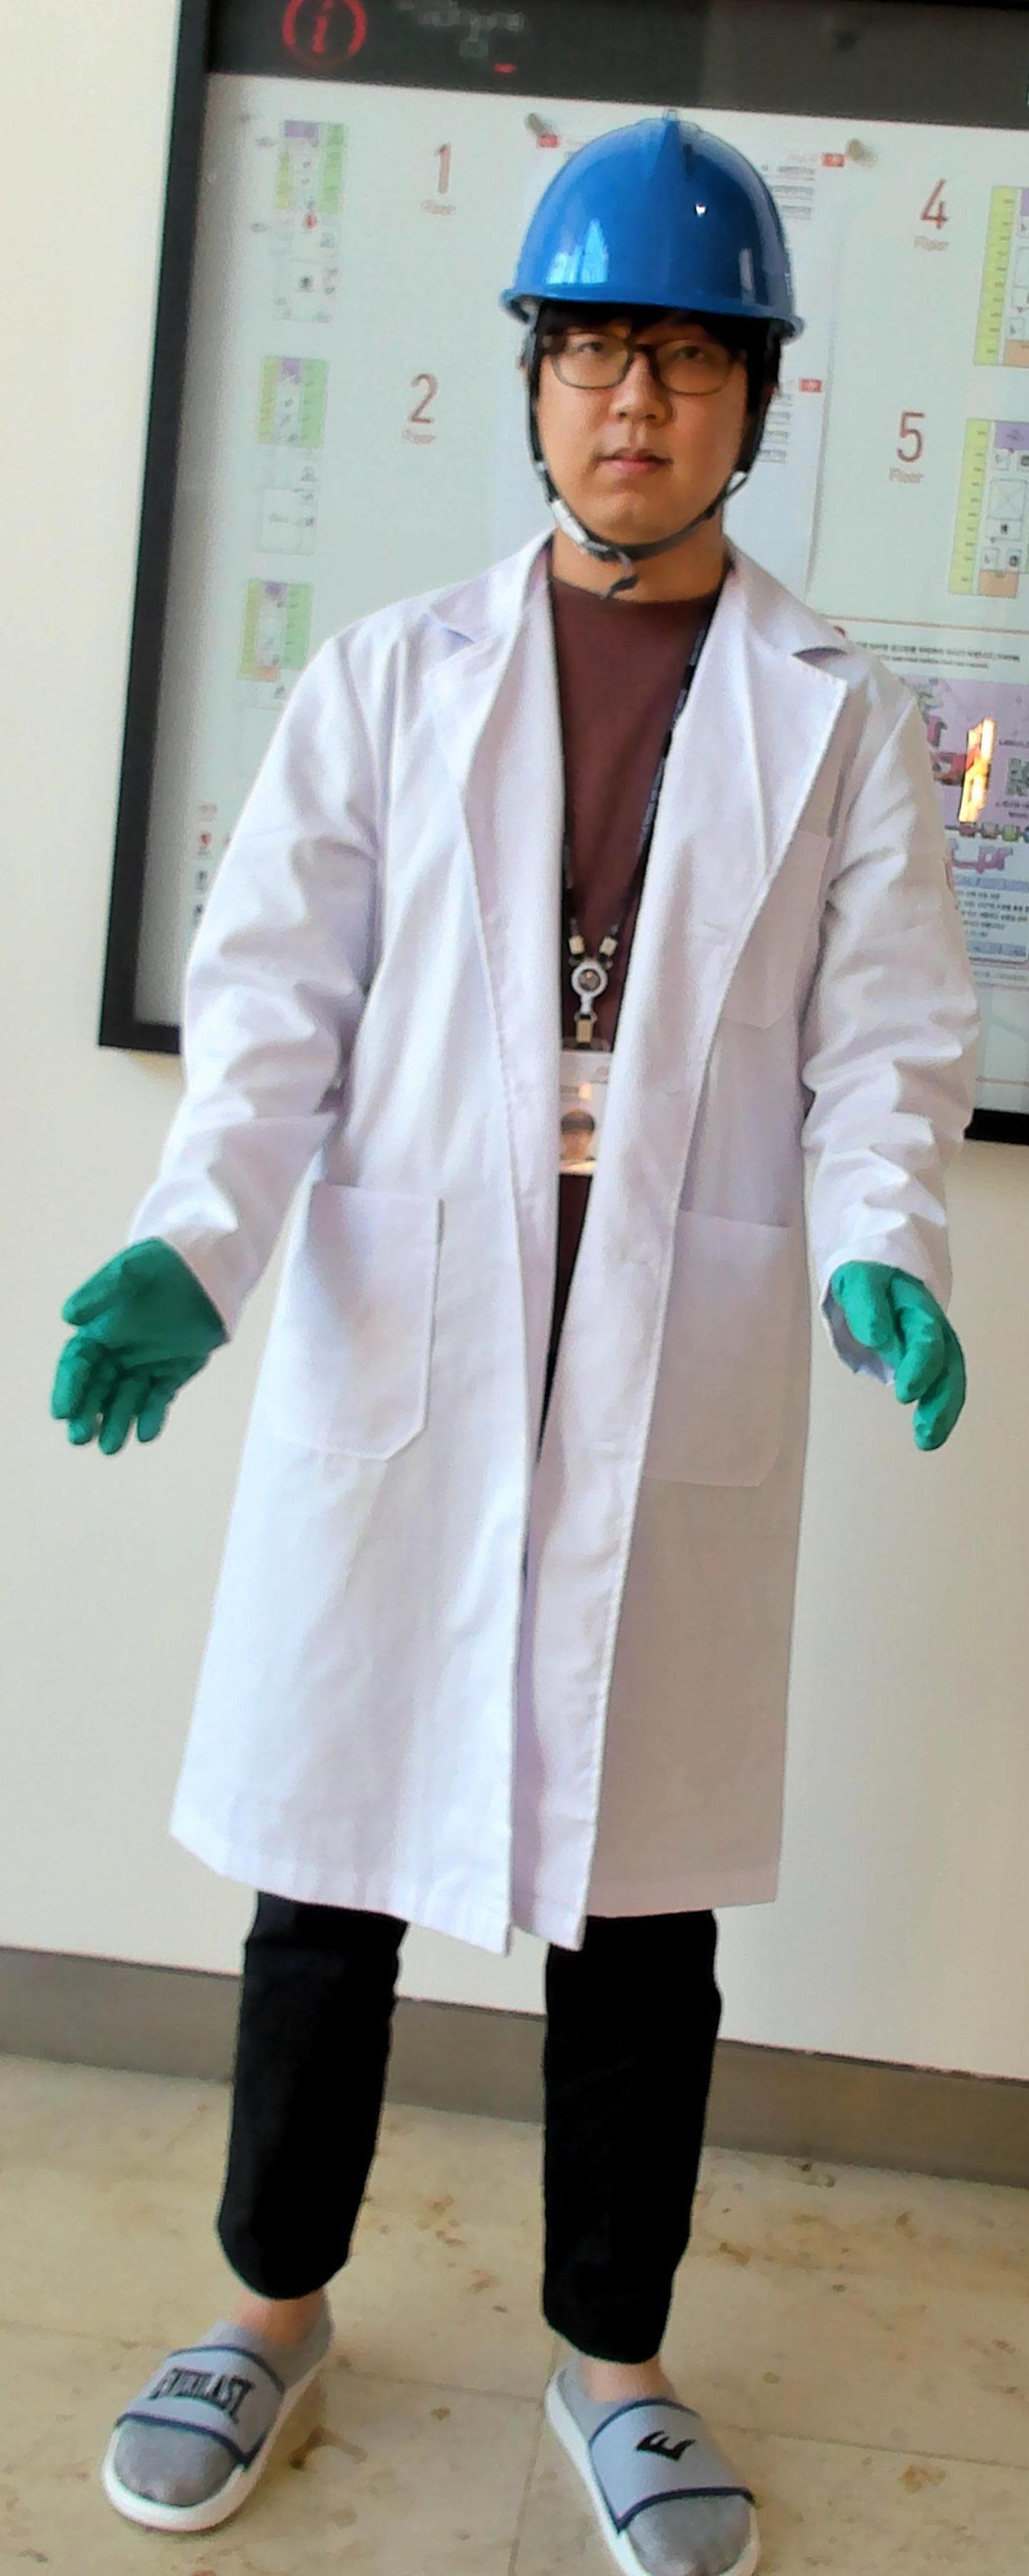lab_coat: (215, 611, 856, 1912)
